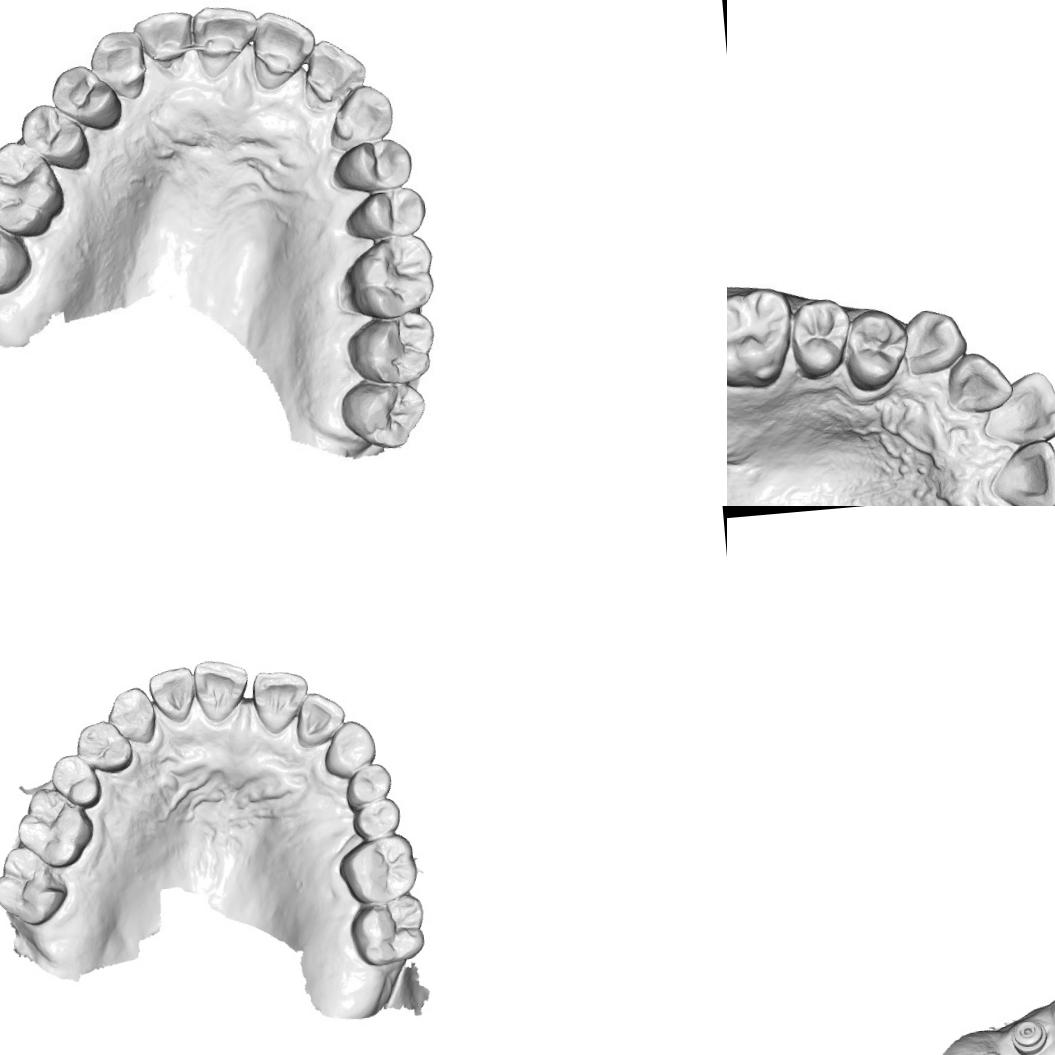canine: (898, 304, 972, 378), (326, 86, 394, 152), (90, 30, 148, 100), (103, 684, 158, 748), (320, 717, 378, 777)
implant_minus: (1008, 1015, 1049, 1055)
incisor: (975, 374, 1055, 443), (188, 0, 259, 74), (250, 8, 314, 86), (302, 36, 369, 107), (250, 666, 313, 735), (190, 656, 252, 724), (995, 439, 1055, 506), (946, 348, 1009, 410), (134, 9, 196, 66), (144, 664, 200, 726), (292, 688, 348, 747)
molar: (347, 236, 439, 325), (11, 783, 96, 871), (0, 138, 69, 242), (348, 306, 437, 383), (346, 890, 429, 970), (727, 286, 796, 380), (335, 830, 416, 907), (0, 840, 70, 928), (341, 375, 424, 448), (0, 212, 23, 292)
premolar: (842, 308, 905, 402), (787, 292, 849, 386), (15, 96, 88, 170), (50, 60, 117, 131), (334, 138, 416, 196), (356, 184, 424, 240), (71, 717, 134, 776), (48, 748, 103, 809), (340, 761, 393, 808), (349, 795, 402, 840)
